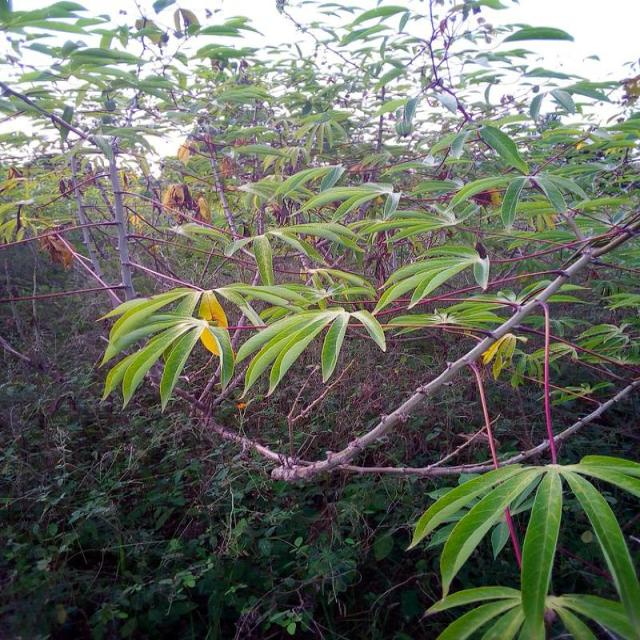cassava leaf: (407, 456, 640, 638), (100, 286, 234, 412)
